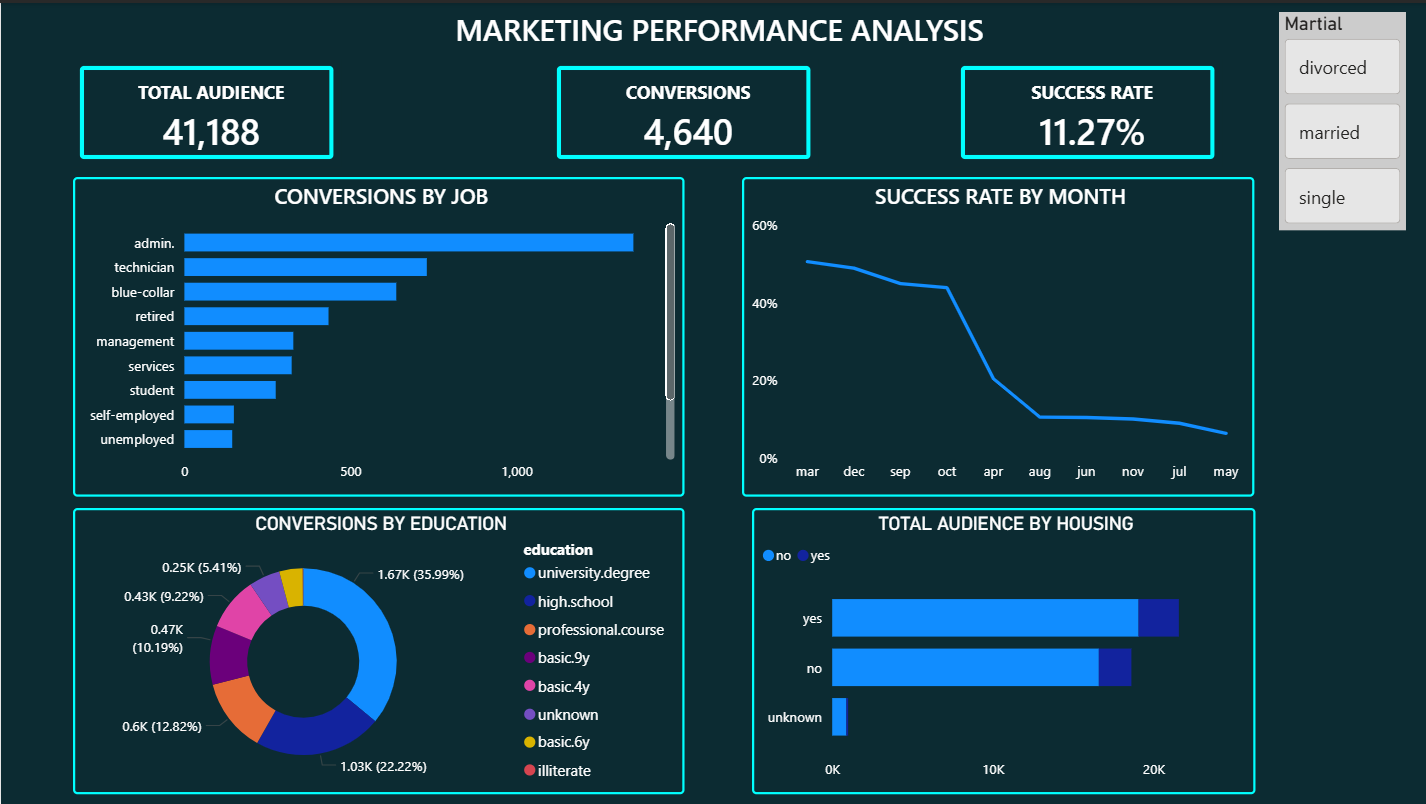

What the dashboard file says about the page in this screenshot:
{"tool":"powerbi","page":{"name":"Page 1","canvas":[1280,720],"ordinal":0},"visuals":[{"type":"textbox","box":[9.7,0,1270.3,81.7],"z":0},{"type":"clusteredBarChart","title":"CONVERSIONS BY JOB","fields":{"Category":["bank-additional-full.job"],"Y":["bank-additional-full.Conversions"]},"box":[64.2,156.3,549.4,286.7],"z":1000},{"type":"lineChart","title":"SUCCESS RATE BY MONTH","fields":{"Category":["bank-additional-full.month"],"Y":["bank-additional-full.Success Rate"]},"box":[665.4,156.3,460.2,286.7],"z":2000},{"type":"donutChart","title":"CONVERSIONS BY EDUCATION","fields":{"Category":["bank-additional-full.education"],"Y":["bank-additional-full.Conversions"]},"box":[64.2,453.5,549.4,257],"z":3000},{"type":"barChart","title":"TOTAL AUDIENCE BY HOUSING","fields":{"Category":["bank-additional-full.housing"],"Y":["bank-additional-full.Total Audience"],"Series":["bank-additional-full.y"]},"box":[674,453.5,451.6,257],"z":4000},{"type":"advancedSlicerVisual","title":"Martial","fields":{"Values":["bank-additional-full.marital"]},"box":[1147.7,7.7,114.1,195.6],"z":5000},{"type":"cardVisual","fields":{"Data":["bank-additional-full.Total Audience"]},"box":[64.2,49.9,240.7,96.8],"z":7000},{"type":"cardVisual","fields":{"Data":["bank-additional-full.Success Rate"]},"box":[855.3,49.9,240.7,96.8],"z":8000},{"type":"cardVisual","fields":{"Data":["bank-additional-full.Conversions"]},"box":[492.8,49.9,240.7,96.8],"z":9000}]}

Visuals, with their boxes in screenshot pixels (x1, y1, x2, y2), scaled from the page's 1280x720 canvas onto the 1426x804 screenshot:
textbox: <region>11, 0, 1425, 91</region>
"CONVERSIONS BY JOB" clusteredBarChart: <region>72, 175, 684, 495</region>
"SUCCESS RATE BY MONTH" lineChart: <region>741, 175, 1254, 495</region>
"CONVERSIONS BY EDUCATION" donutChart: <region>72, 506, 684, 793</region>
"TOTAL AUDIENCE BY HOUSING" barChart: <region>751, 506, 1254, 793</region>
"Martial" advancedSlicerVisual: <region>1279, 9, 1406, 227</region>
cardVisual - bank-additional-full.Total Audience: <region>72, 56, 340, 164</region>
cardVisual - bank-additional-full.Success Rate: <region>953, 56, 1221, 164</region>
cardVisual - bank-additional-full.Conversions: <region>549, 56, 817, 164</region>
